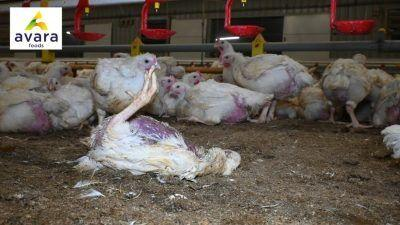AbNormal: (81, 63, 241, 180)
